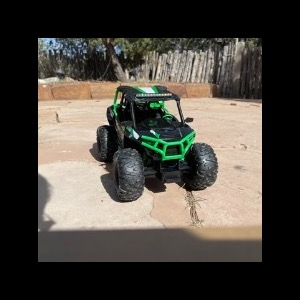polaris: (95, 84, 221, 204)
